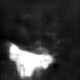plane: (7, 41, 55, 80)
